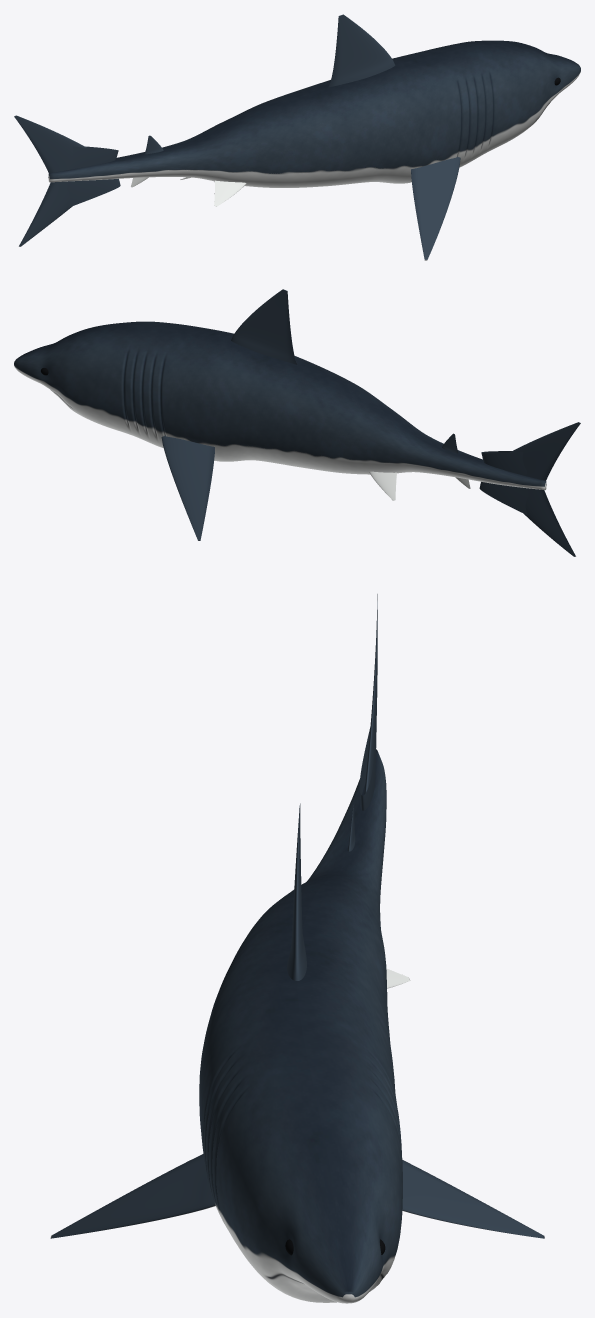
The model's file is salmon_shark.glb.
3 views of the same model, one above another, from view 1: azimuth 30°, elevation 25°; view 2: azimuth 150°, elevation 25°; view 3: azimuth 270°, elevation 25° (orthographic). The views are drawn at different scales.
Visible parts, largest first — view 1: Salmonshark_Body, Salmonshark_Fins; view 2: Salmonshark_Body, Salmonshark_Fins; view 3: Salmonshark_Body, Salmonshark_Fins.
Boxes of the visible parts, x1=… form: Salmonshark_Body: x1=48, y1=40, x2=580, y2=187; Salmonshark_Fins: x1=14, y1=14, x2=460, y2=260; Salmonshark_Body: x1=14, y1=321, x2=546, y2=489; Salmonshark_Fins: x1=161, y1=289, x2=580, y2=556; Salmonshark_Body: x1=199, y1=749, x2=402, y2=1303; Salmonshark_Fins: x1=50, y1=594, x2=544, y2=1238.
Size of the model in its own units: 2.3 by 0.8084 by 0.8811.
3 materials, 1 textured.
